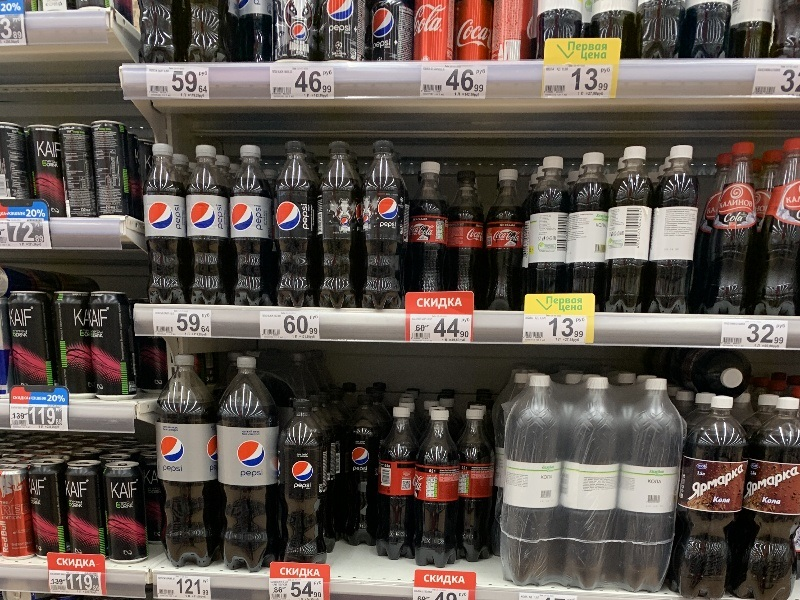lemonade: (667, 393, 755, 599), (151, 350, 224, 572), (216, 351, 282, 580), (273, 397, 334, 579), (136, 141, 197, 306), (266, 138, 321, 314), (650, 137, 702, 321), (358, 137, 409, 317), (184, 140, 237, 312), (314, 135, 364, 313), (411, 406, 463, 572), (374, 404, 424, 567), (477, 161, 530, 314), (226, 140, 273, 312)
